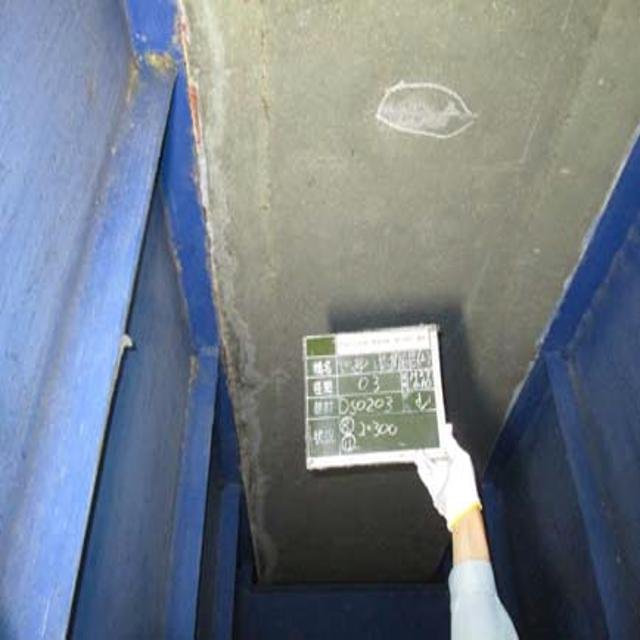freelime: (178, 24, 276, 574), (370, 83, 496, 150)
